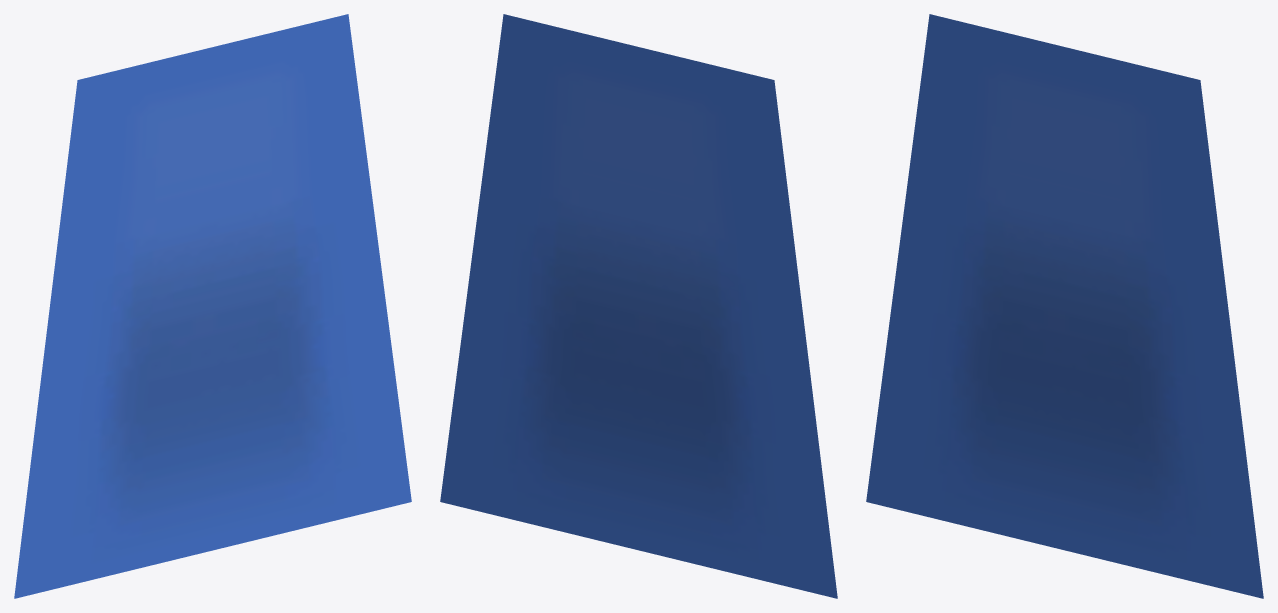
Rendered from tx_zhanchang_fuben_259_qiangmian03b.obj.
3 renders of one model, left to right at view 1: azimuth 30°, elevation 25°; view 2: azimuth 150°, elevation 25°; view 3: azimuth 330°, elevation 25°, orthographic.
Visible parts, largest first — view 1: Plane02; view 2: Plane02; view 3: Plane02.
Boxes of the visible parts, x1,y1,x2,y2 form: Plane02: (14,14,411,598); Plane02: (440,14,837,598); Plane02: (866,14,1263,598).
Size of the model in its own units: 139 by 168 by 9.54e-06.
Materials: 2 (2 with a texture image).
